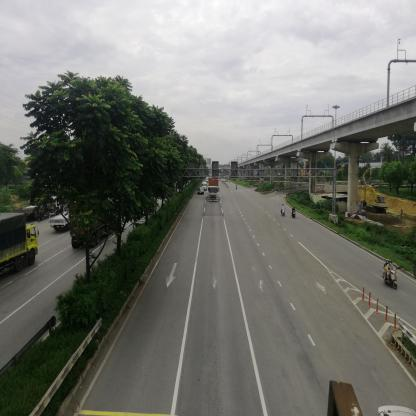car: (199, 189, 205, 197)
container: (210, 179, 220, 202)
motorbike: (384, 261, 398, 290), (293, 207, 298, 219), (283, 205, 286, 218)
truck: (1, 214, 39, 276)
